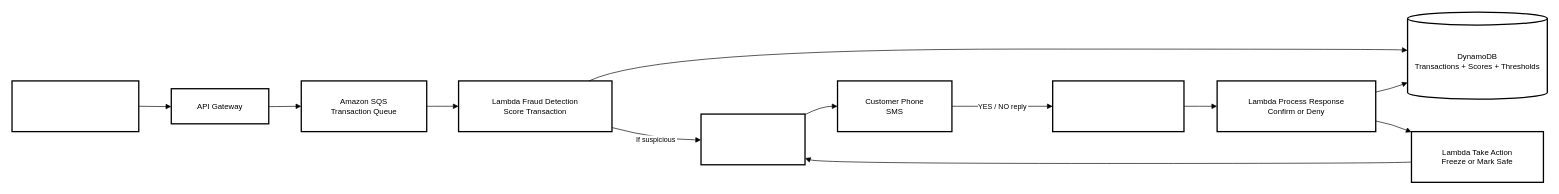
This 1559x194 diagram has some shape labels left out. The shapes that lost their labels are listed below. From the top down, each one's centre as x and y in pixels, then its label:
At (75,106): "Web or Mobile UI Transaction Source".
At (1118,106): "Twilio SMS Webhook Incoming Reply".
At (752,139): "Twilio SMS API Send Alert".
